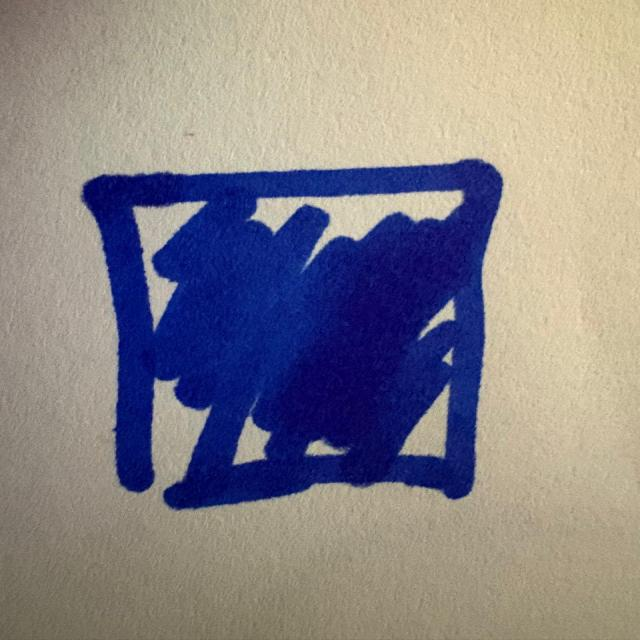Square: (72, 153, 517, 514)
